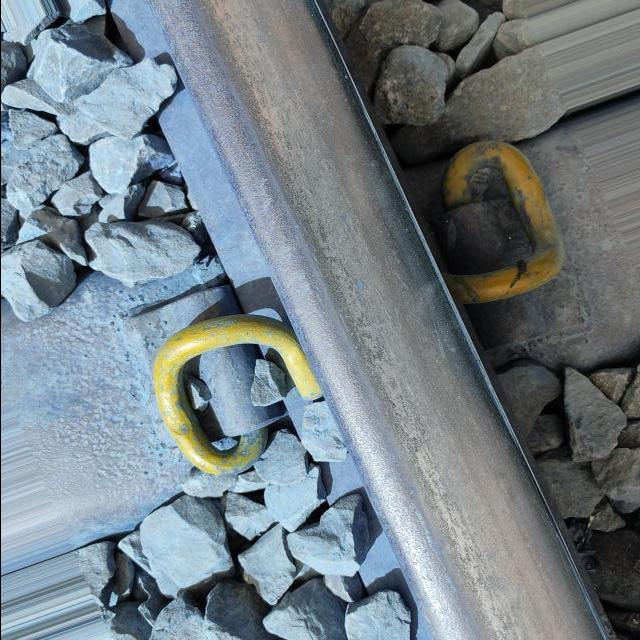squats_high: (350, 280, 364, 292)
